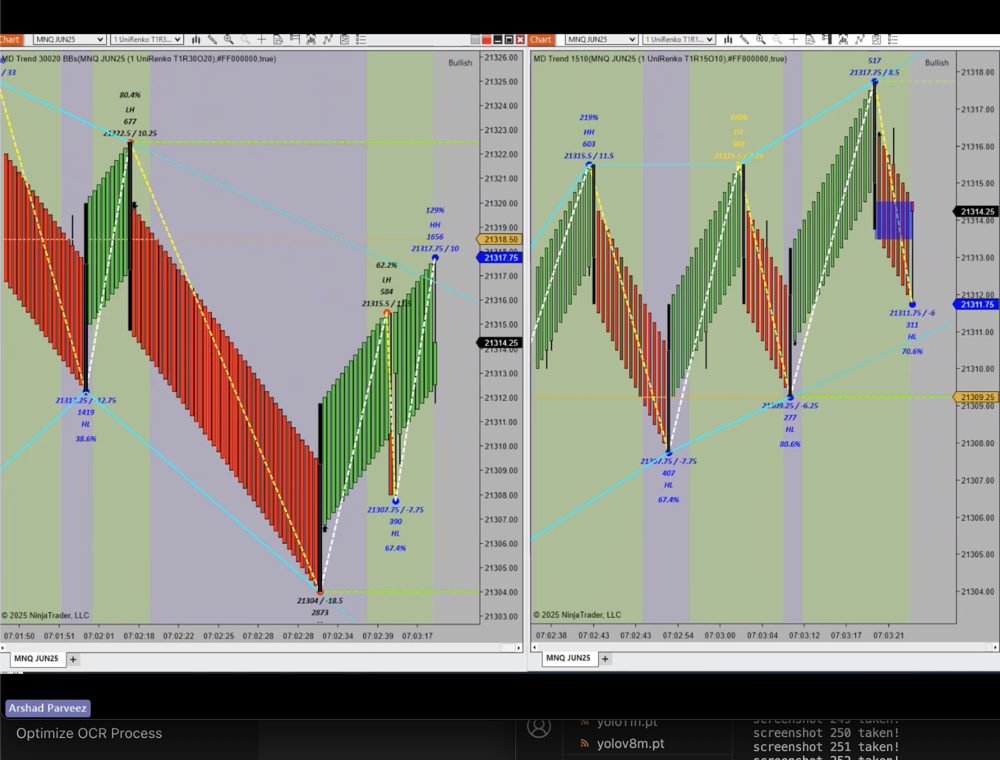HH: (579, 123, 604, 142), (423, 217, 448, 231)
HL: (71, 416, 100, 436), (779, 419, 806, 438), (657, 476, 682, 496), (906, 327, 926, 347), (382, 527, 408, 539)
LH: (374, 271, 401, 290), (119, 100, 142, 117)
